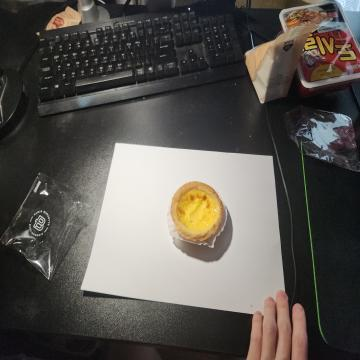EggTart: (170, 180, 225, 242)
